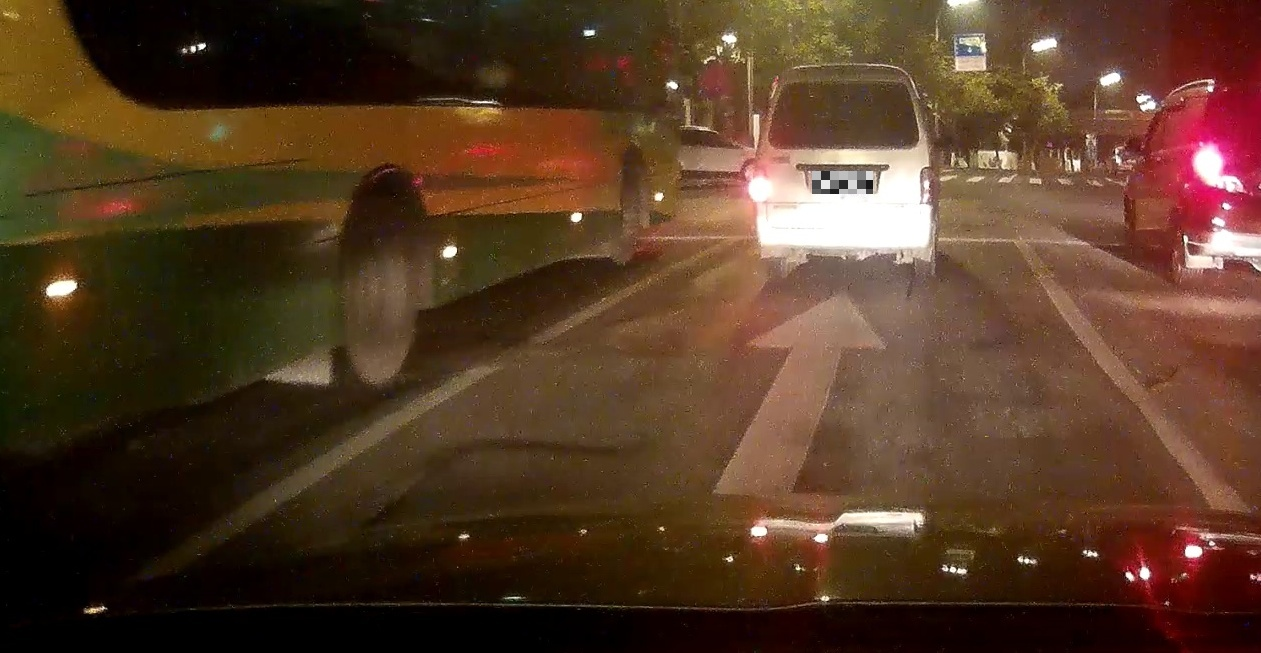L_light: (754, 167, 766, 201)
R_light: (920, 167, 935, 203)
T_light: (833, 82, 855, 88)
night-left: (751, 62, 938, 277)
plate_1: (812, 171, 873, 194)
